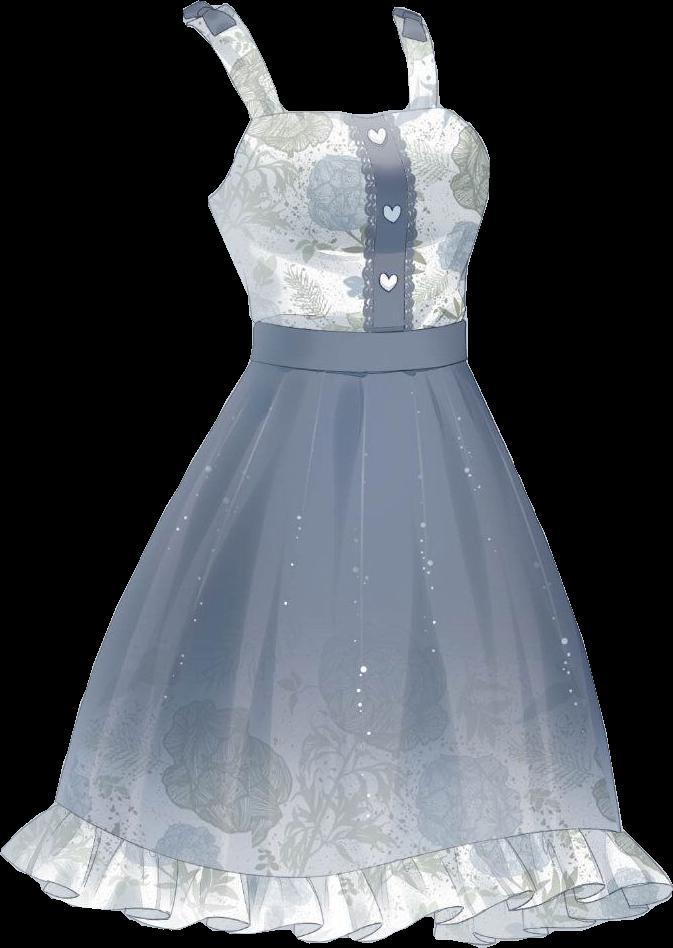Bodice: (183, 1, 489, 334)
Hemline: (2, 846, 671, 947)
Neckline: (224, 2, 420, 123)
Skirt: (1, 321, 672, 947)
Waistline: (52, 797, 622, 886), (249, 313, 471, 344), (249, 353, 467, 380)
